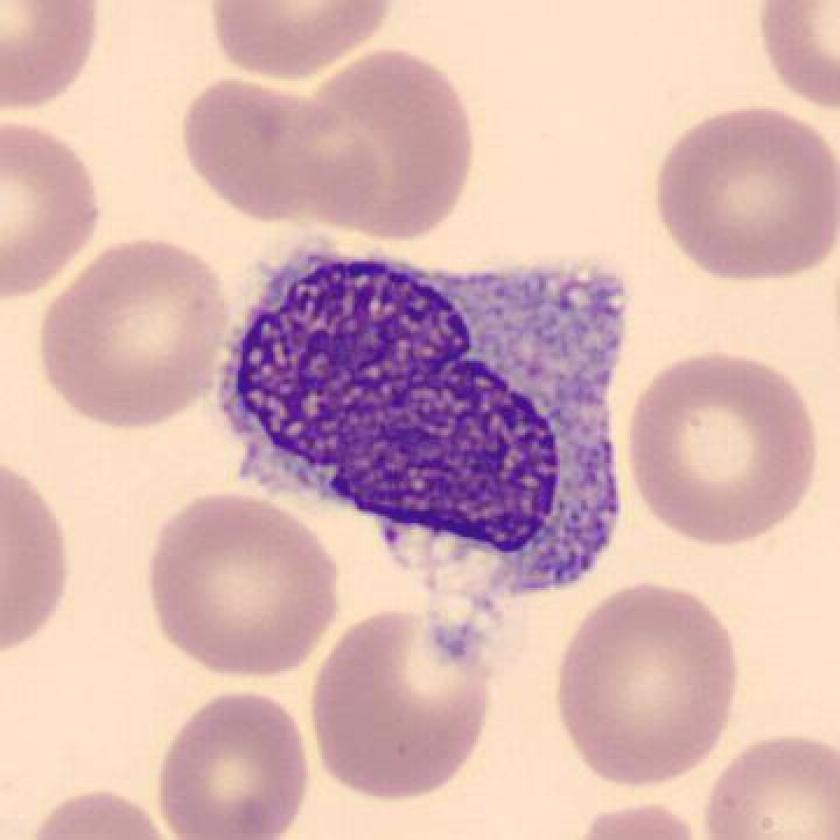monocyte: (206, 214, 652, 637)
